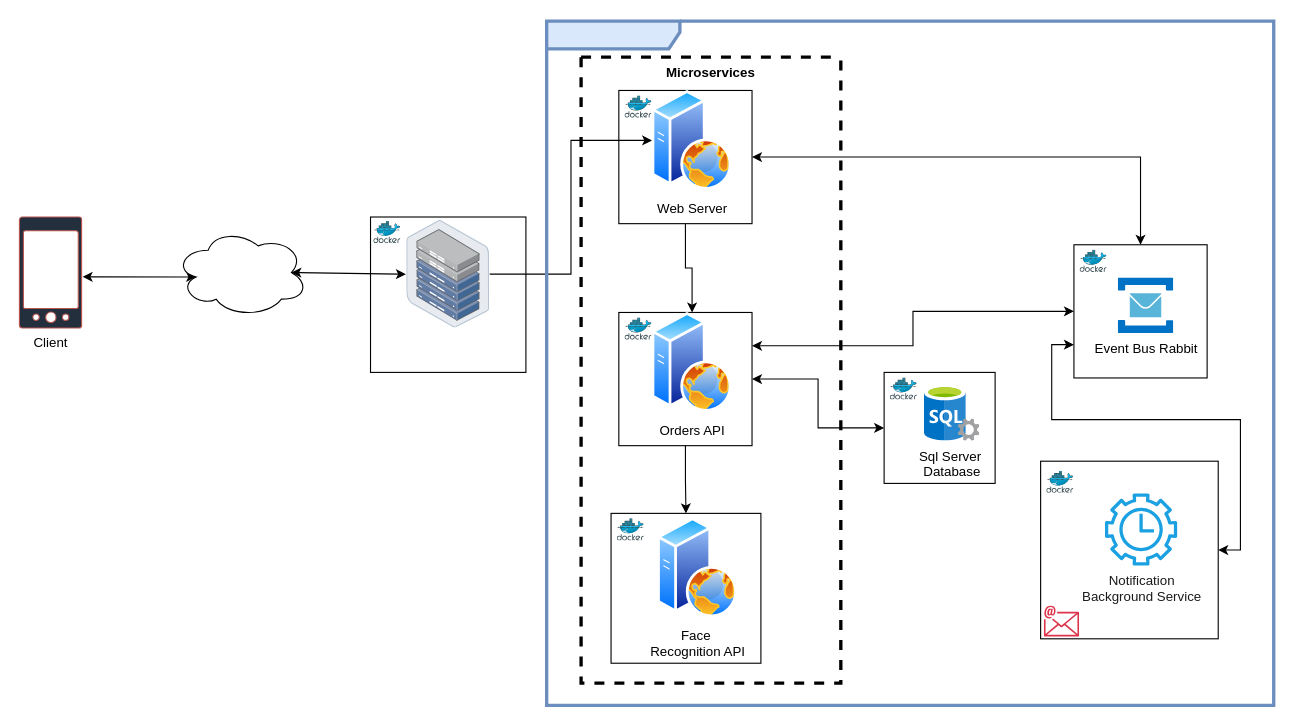
The diagram is 1294 pixels wide and 726 high, and some of its shapes have lost their labels. The box of each missing label's shape, as (x1, y1, x2, y2) in pixels:
Internet: (174, 227, 308, 317)
NGINX Caching Reverse Proxy: (406, 220, 489, 327)
Private Network: (544, 19, 1275, 707)
